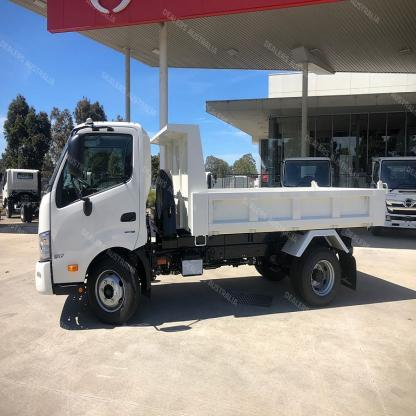dump_truck: (30, 107, 396, 323)
